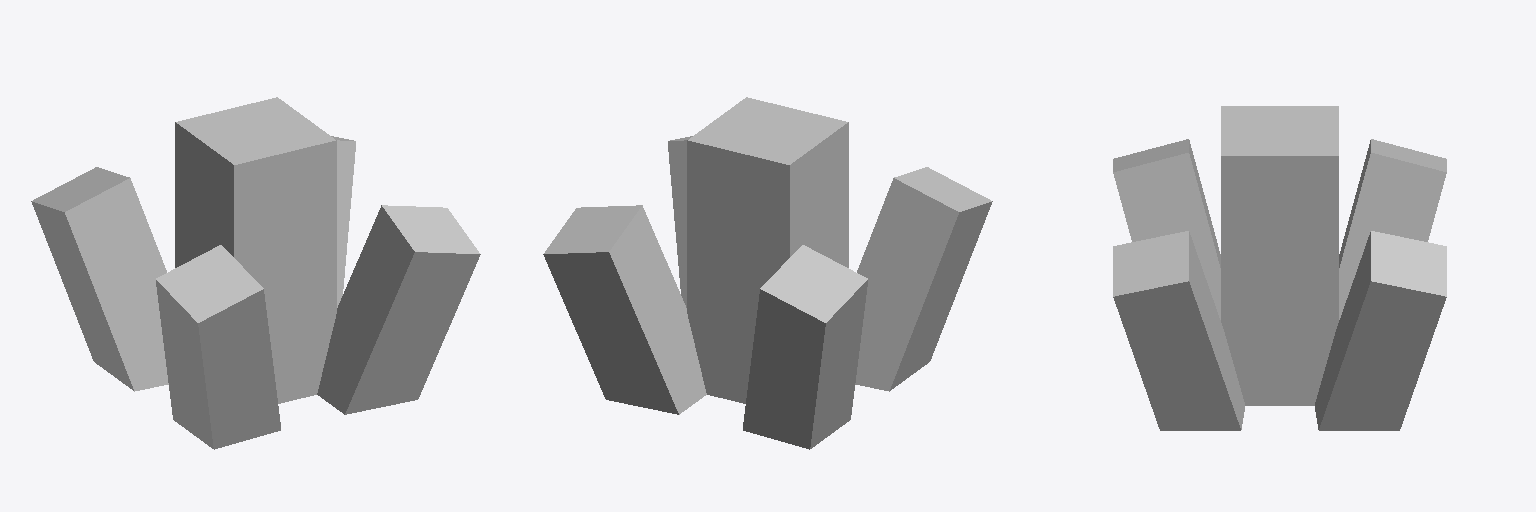
Rendered from crystal2.obj.
3 views of the same model, side by side, from view 1: azimuth 30°, elevation 25°; view 2: azimuth 150°, elevation 25°; view 3: azimuth 270°, elevation 25° (orthographic).
Parts seen in each view (by area): view 1: middle_Cube.004, Cube.002, Cube, Cube.001, Cube.003; view 2: middle_Cube.004, Cube.003, Cube.001, Cube, Cube.002; view 3: middle_Cube.004, Cube.002, Cube.003, Cube, Cube.001.
Boxes of the visible parts, x1,y1,x2,y2 form: middle_Cube.004: [175, 97, 336, 403]; Cube.002: [317, 205, 480, 414]; Cube: [31, 167, 168, 391]; Cube.001: [156, 245, 280, 449]; Cube.003: [331, 136, 355, 307]; middle_Cube.004: [687, 97, 848, 403]; Cube.003: [543, 205, 706, 414]; Cube.001: [855, 167, 992, 391]; Cube: [743, 245, 867, 449]; Cube.002: [668, 136, 692, 307]; middle_Cube.004: [1221, 106, 1338, 405]; Cube.002: [1113, 231, 1244, 430]; Cube.003: [1315, 231, 1446, 430]; Cube: [1339, 139, 1446, 319]; Cube.001: [1113, 139, 1220, 319].
Size of the model in its own units: 0.8566 by 0.7 by 0.8485.